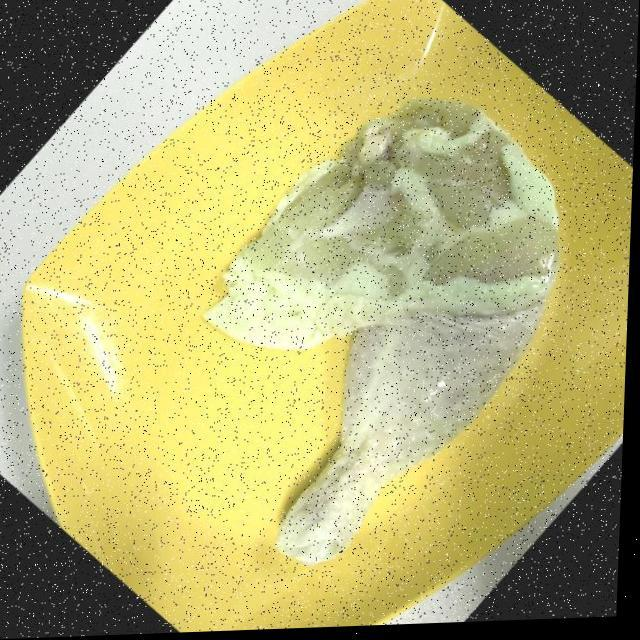quater: (240, 107, 544, 568)
